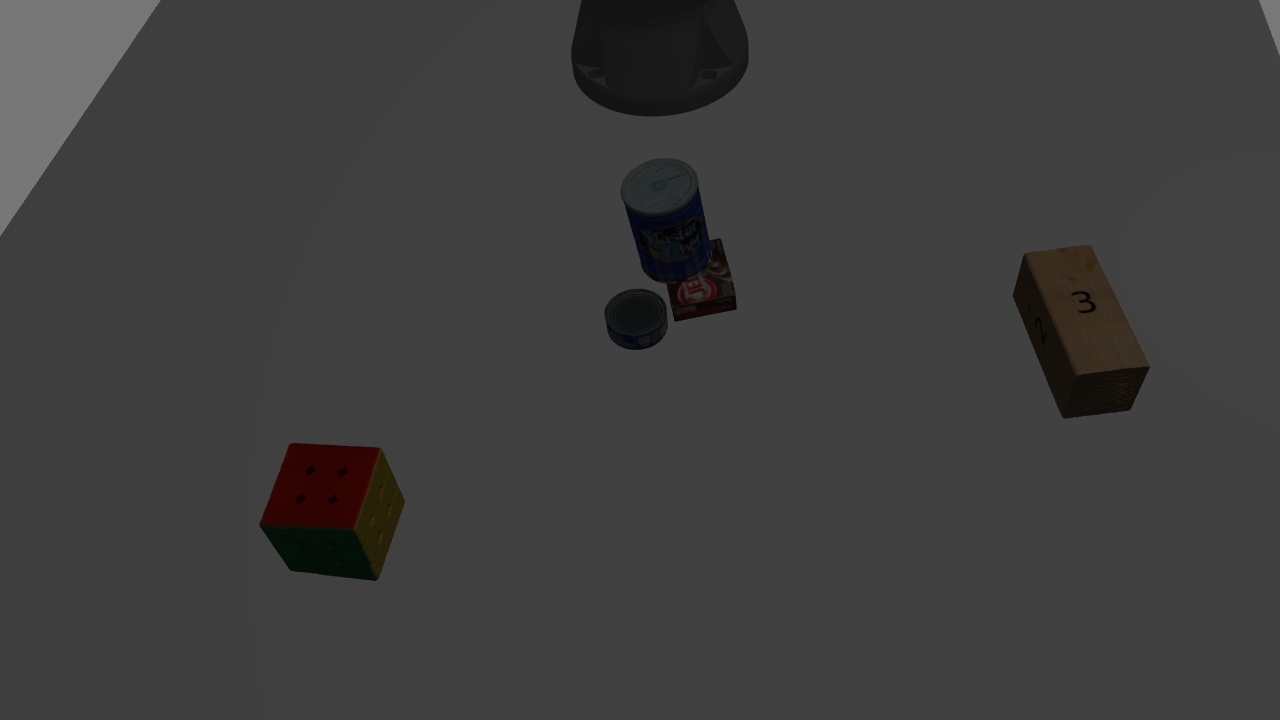master_chef_can: (617, 161, 718, 282)
pudding_box: (668, 229, 740, 323)
rubiks_cube: (250, 417, 404, 594)
tuna_fish_can: (598, 292, 677, 356)
wood_block: (1005, 229, 1156, 426)
